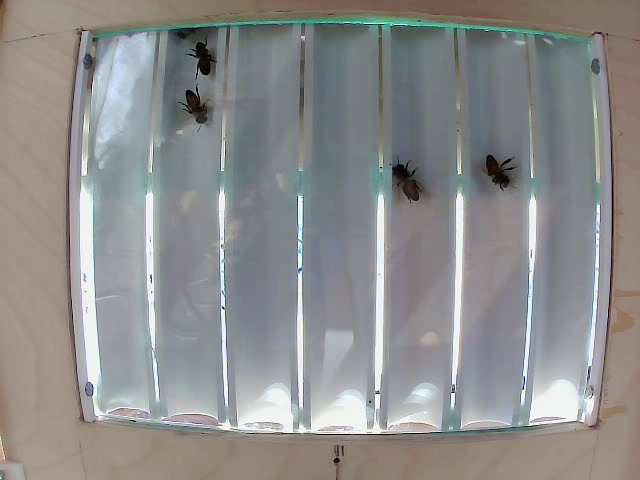bee: (391, 155, 434, 208), (184, 42, 222, 78), (188, 94, 221, 132), (474, 149, 501, 185)
